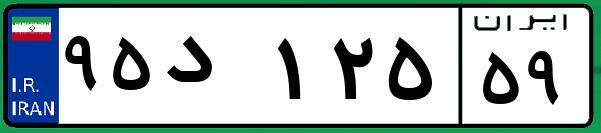1: (270, 28, 330, 110)
2: (330, 28, 385, 110)
5: (385, 28, 445, 110), (475, 38, 525, 113), (110, 28, 158, 98)
9: (57, 26, 110, 100), (525, 38, 570, 115)
د: (158, 20, 270, 120)
